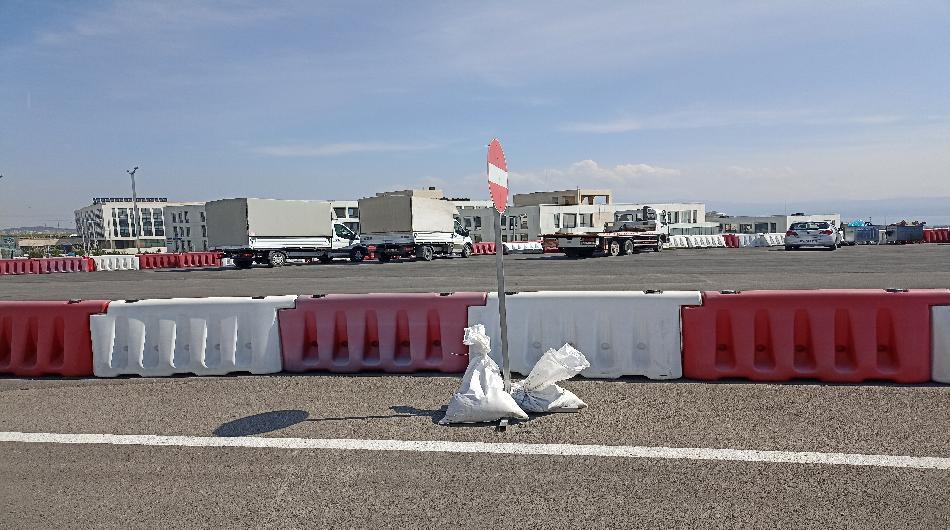girilmez: (483, 139, 516, 219)
